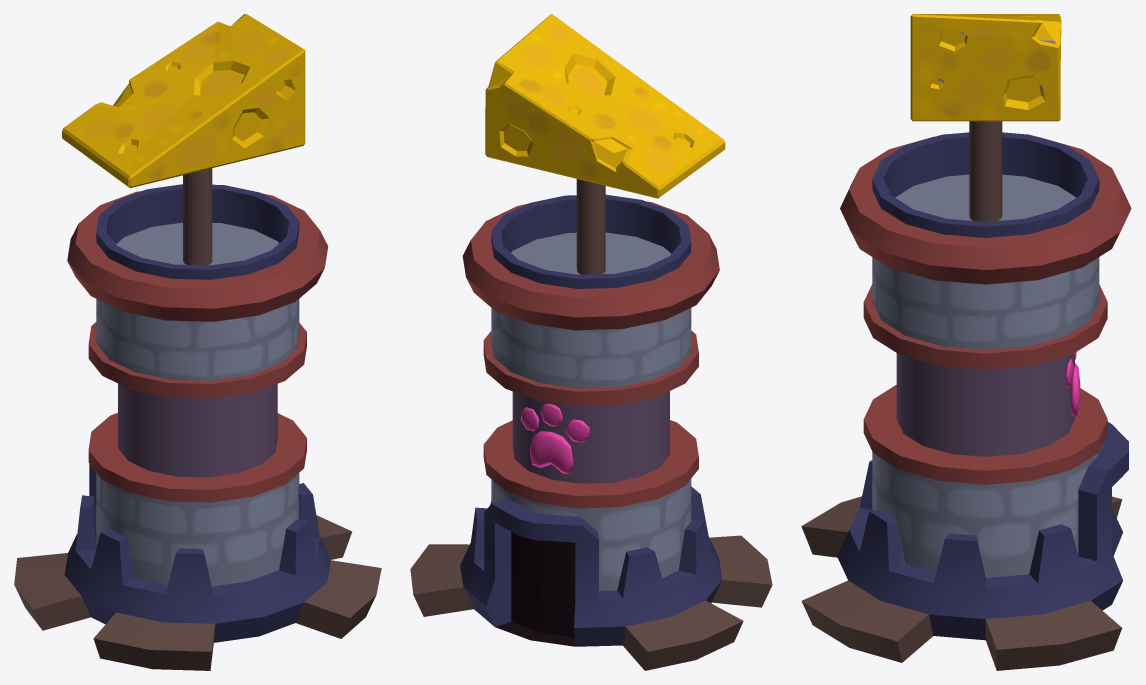
The model's file is Tower.fbx.
3 views of the same model, side by side, from view 1: azimuth 30°, elevation 25°; view 2: azimuth 150°, elevation 25°; view 3: azimuth 270°, elevation 25° (orthographic). The views are drawn at different scales.
Visible parts, largest first — view 1: Circle; view 2: Circle; view 3: Circle.
Part boxes in pixels (x1=…): Circle: x1=14, y1=14, x2=381, y2=670; Circle: x1=410, y1=14, x2=772, y2=670; Circle: x1=801, y1=14, x2=1131, y2=670.
Size of the model in its own units: 360 by 598 by 291.
